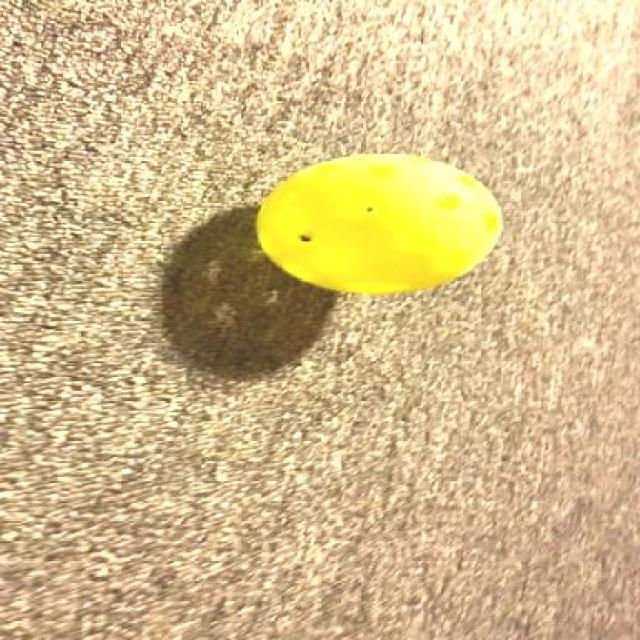ball: (254, 138, 521, 312)
